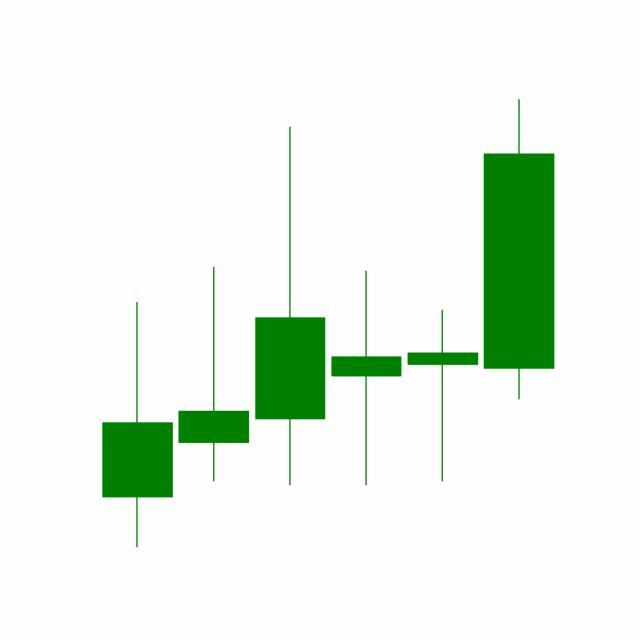Hikkake Pattern: (175, 99, 555, 490)
